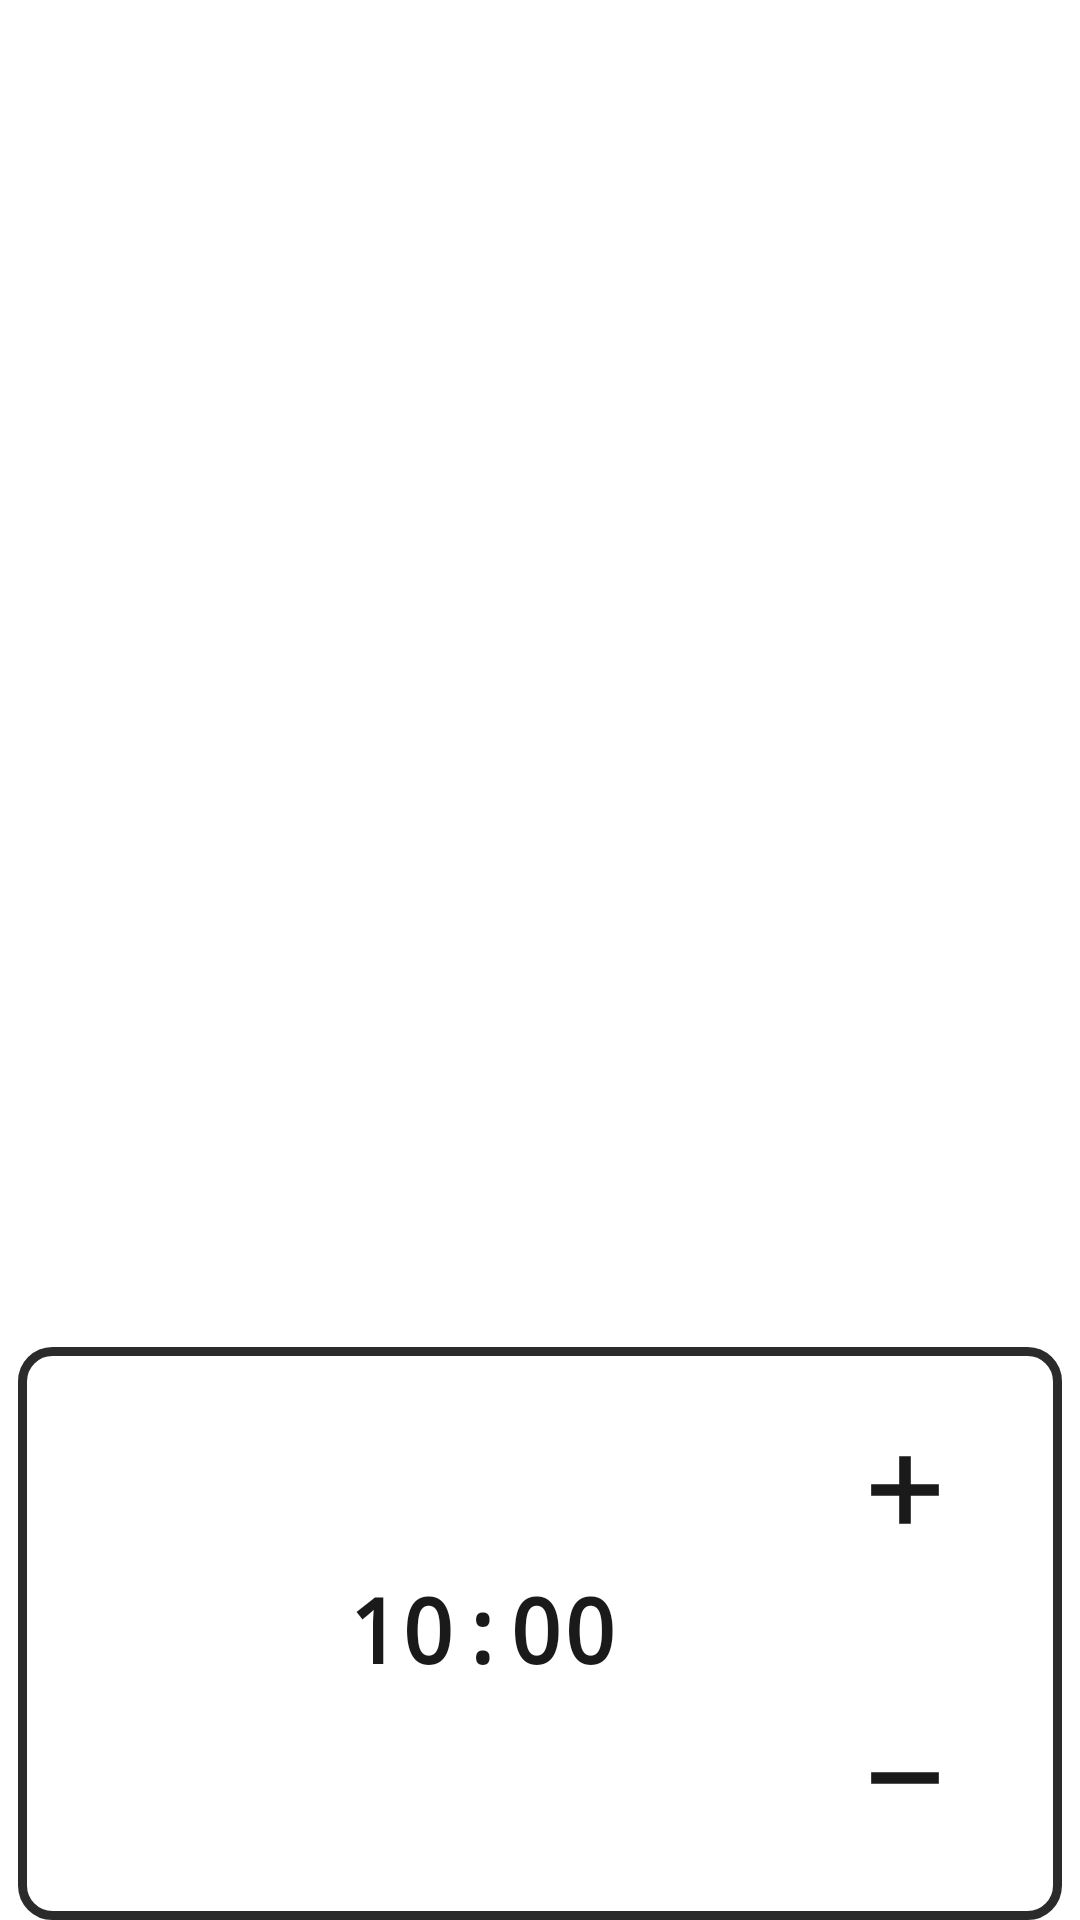

Named icons in this screenshot (1080 x 1920) and their bounding boxes, (x1, y1, x2, y2):
시간 증가: (871, 1456, 939, 1524)
